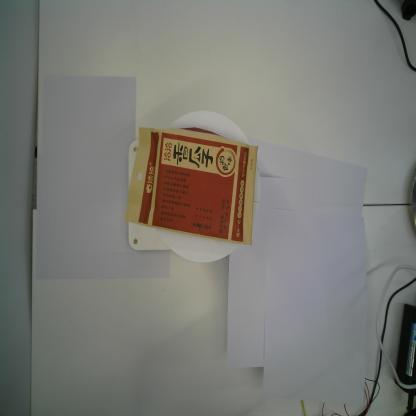Dried Food: (123, 126, 259, 246)
